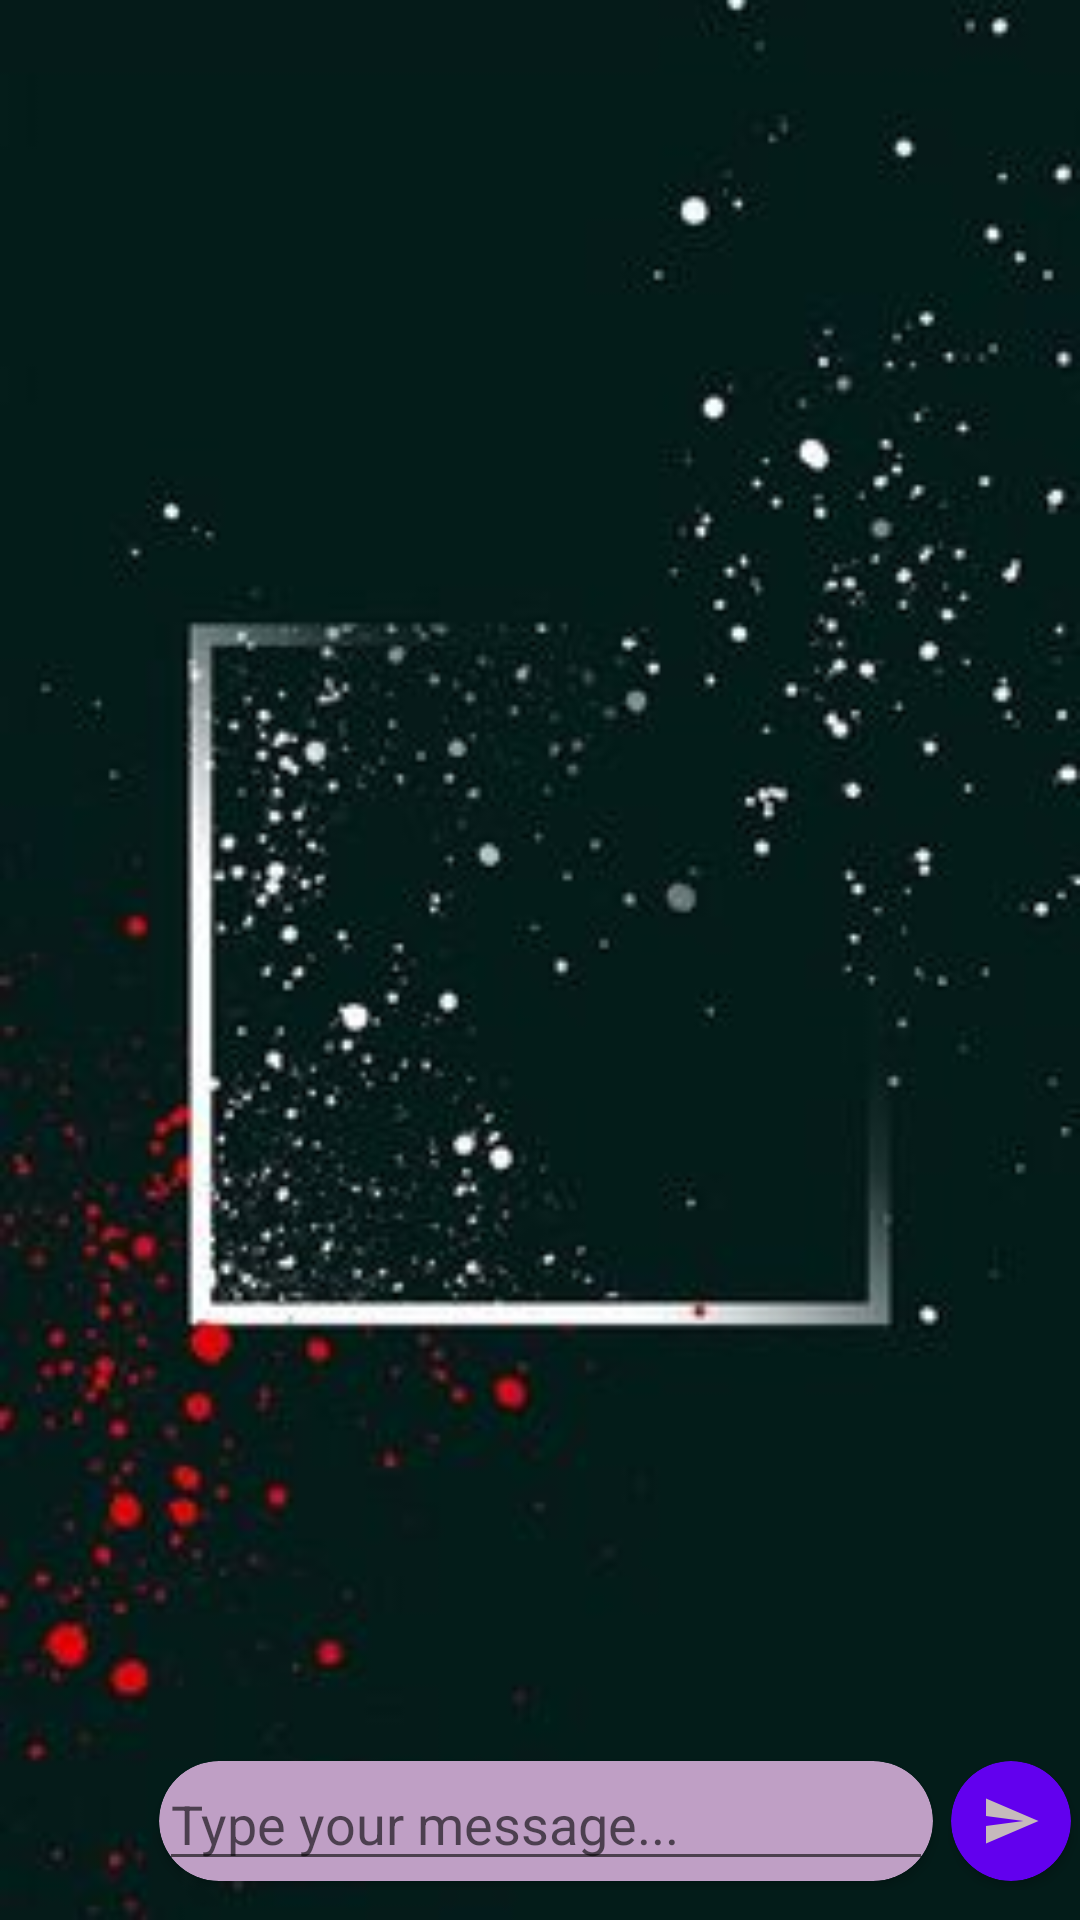

Where to tap for icons on this 1080px x 1920px app screen, as (x,y):
send: (1012,1821)
